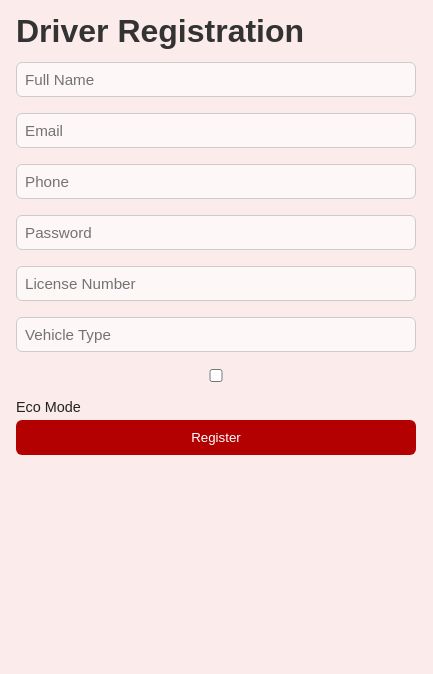
DriverRegistrationForm Component › shows success message and driver data on successful registration
Type "John Doe" into the field with placeholder "Full Name".
click(216, 80); type("John Doe")  # box [16,62,416,97]
Type "john@example.com" into the field with placeholder "Email".
click(216, 131); type("john@example.com")  # box [16,113,416,148]
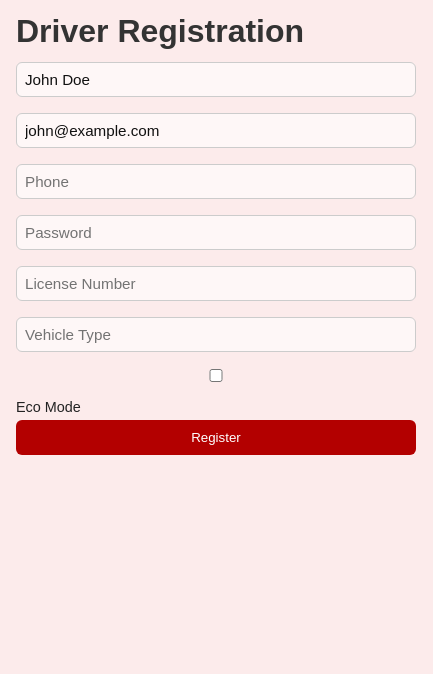
Type "1234567890" into the field with placeholder "Phone".
click(216, 182); type("1234567890")  # box [16,164,416,199]
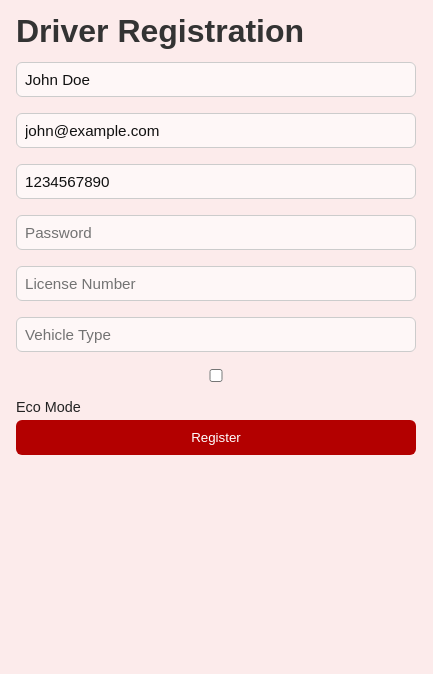
Type "pass123" into the password field with placeholder "Password".
click(216, 233); type("pass123")  # box [16,215,416,250]
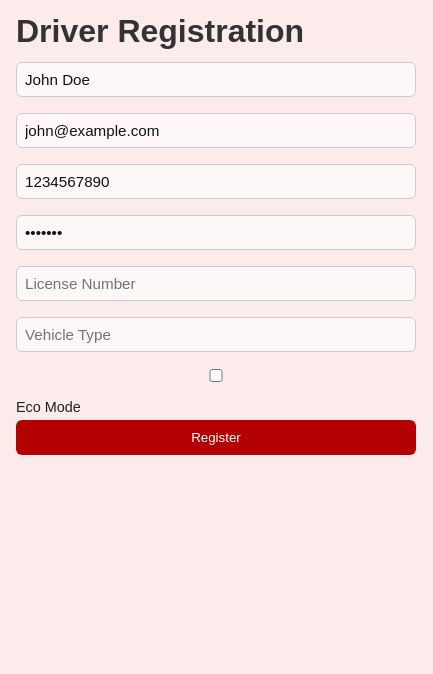
Type "LIC123" into the field with placeholder "License Number".
click(216, 284); type("LIC123")  # box [16,266,416,301]
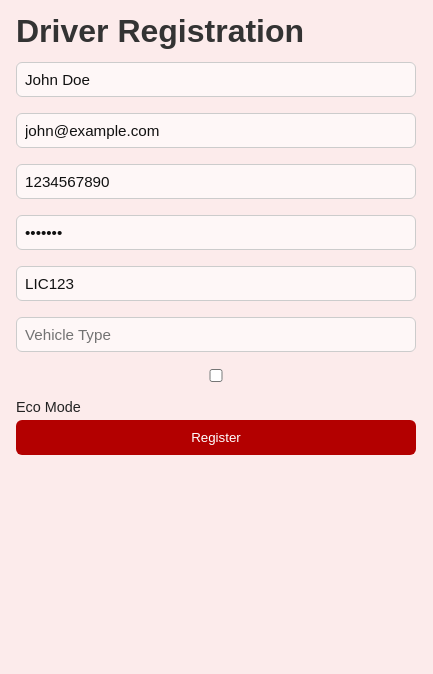
Type "Car" into the field with placeholder "Vehicle Type".
click(216, 335); type("Car")  # box [16,317,416,352]
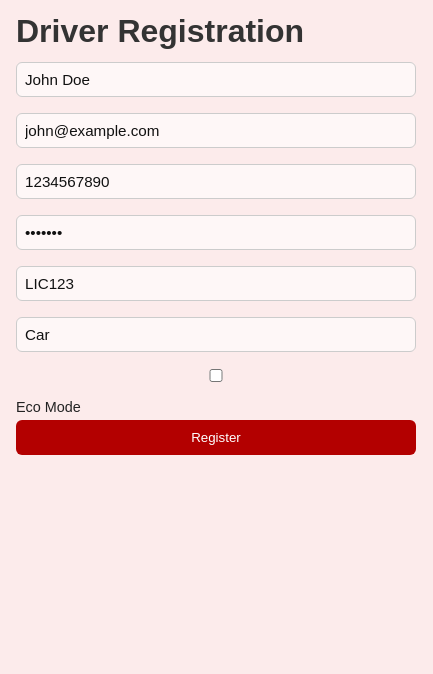
Click the button "Register".
click(216, 438)  # box [16,420,416,455]
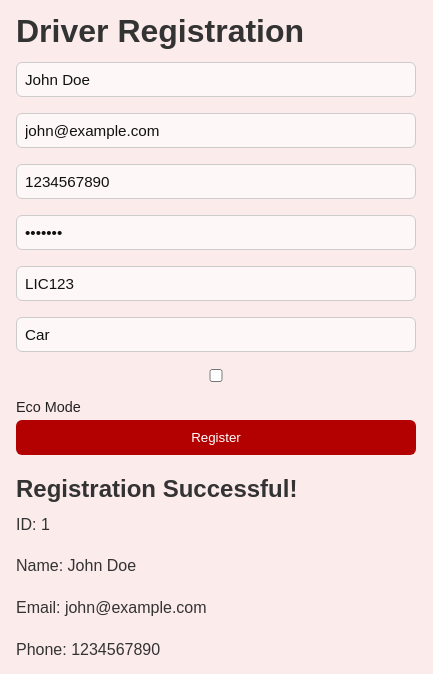
Check: the heading "Registration Successful!" is shown, box [16,475,297,502]
Check: the text "Email: john@example.com" is shown, box [16,599,206,616]
Check: the text "Name: John Doe" is shown, box [16,557,136,574]
